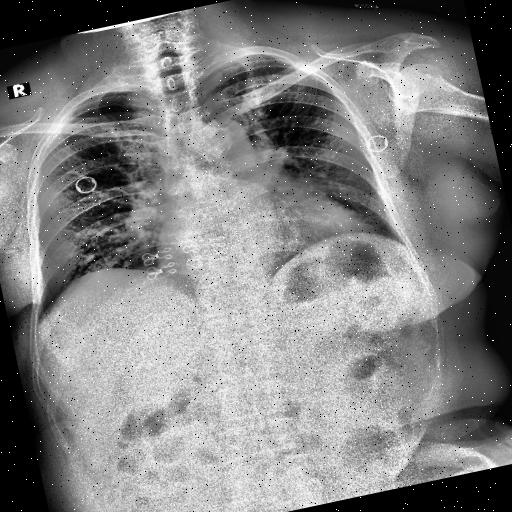0- Aortic enlargement: (188, 112, 260, 170), (188, 112, 254, 170)
3- Cardiomegaly: (151, 188, 373, 304), (146, 194, 374, 305), (149, 187, 374, 283)
